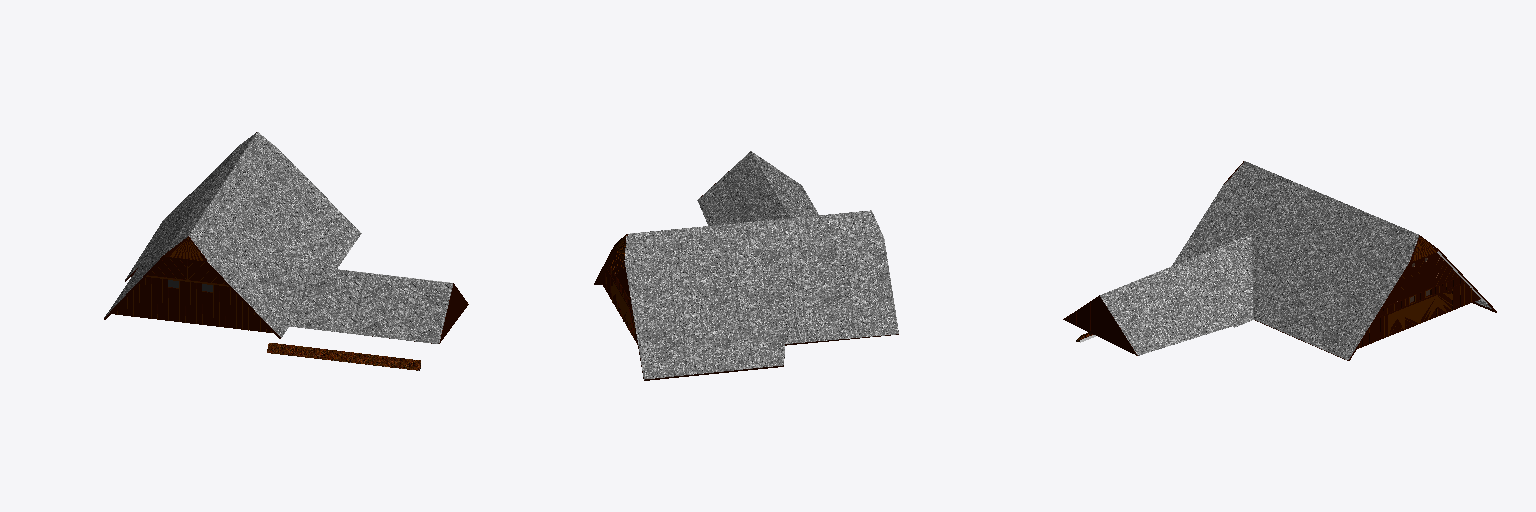
3 renders of one model, left to right at view 1: azimuth 30°, elevation 25°; view 2: azimuth 150°, elevation 25°; view 3: azimuth 270°, elevation 25°, orthographic.
Visible parts, largest first — view 1: Mesh28 mlyn_final_verze_1_1 Model, Mesh50 mlyn_final_verze_1_1 Model, Mesh25 stit_3_1 mlyn_final_verze_1_1 Model, Mesh49 mlyn_final_verze_1_1 Model; view 2: Mesh28 mlyn_final_verze_1_1 Model, Mesh50 mlyn_final_verze_1_1 Model; view 3: Mesh28 mlyn_final_verze_1_1 Model, Mesh50 mlyn_final_verze_1_1 Model.
Part boxes in pixels (x1,y1,x2,y2): Mesh28 mlyn_final_verze_1_1 Model: (104, 132, 361, 338); Mesh50 mlyn_final_verze_1_1 Model: (251, 259, 468, 343); Mesh25 stit_3_1 mlyn_final_verze_1_1 Model: (112, 257, 272, 332); Mesh49 mlyn_final_verze_1_1 Model: (267, 343, 420, 370); Mesh28 mlyn_final_verze_1_1 Model: (594, 210, 898, 380); Mesh50 mlyn_final_verze_1_1 Model: (697, 151, 818, 225); Mesh28 mlyn_final_verze_1_1 Model: (1172, 161, 1496, 360); Mesh50 mlyn_final_verze_1_1 Model: (1063, 234, 1253, 355).
Size of the model in its own units: 22.61 by 8.52 by 29.99.
Materials: 12 (3 with a texture image).